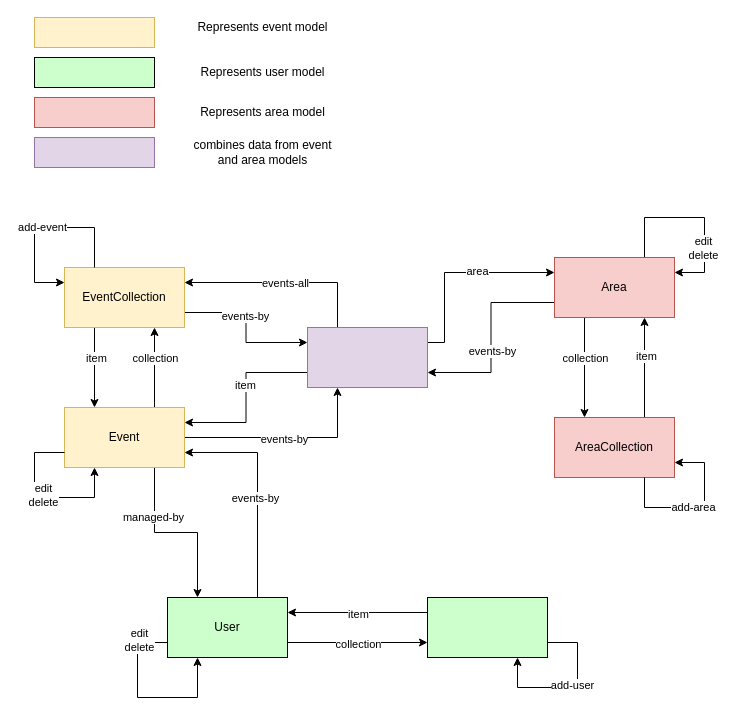
Some shapes in this 735 by 723 pixel diagram are drawn without their labels. The shapes that lost their labels are listed below. From the top down, each one's centre as x and y in pixels, then its label:
At (367,357): "EventsByArea".
At (487,627): "UserCollection".
